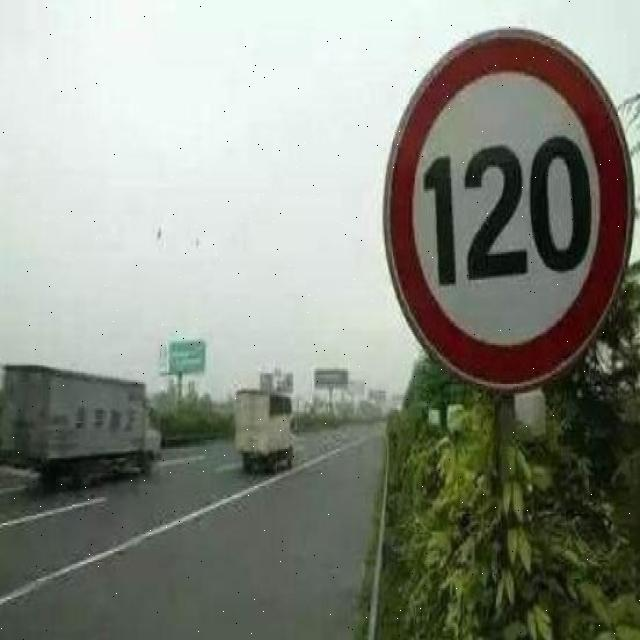speed limit 120: (381, 25, 635, 392)
